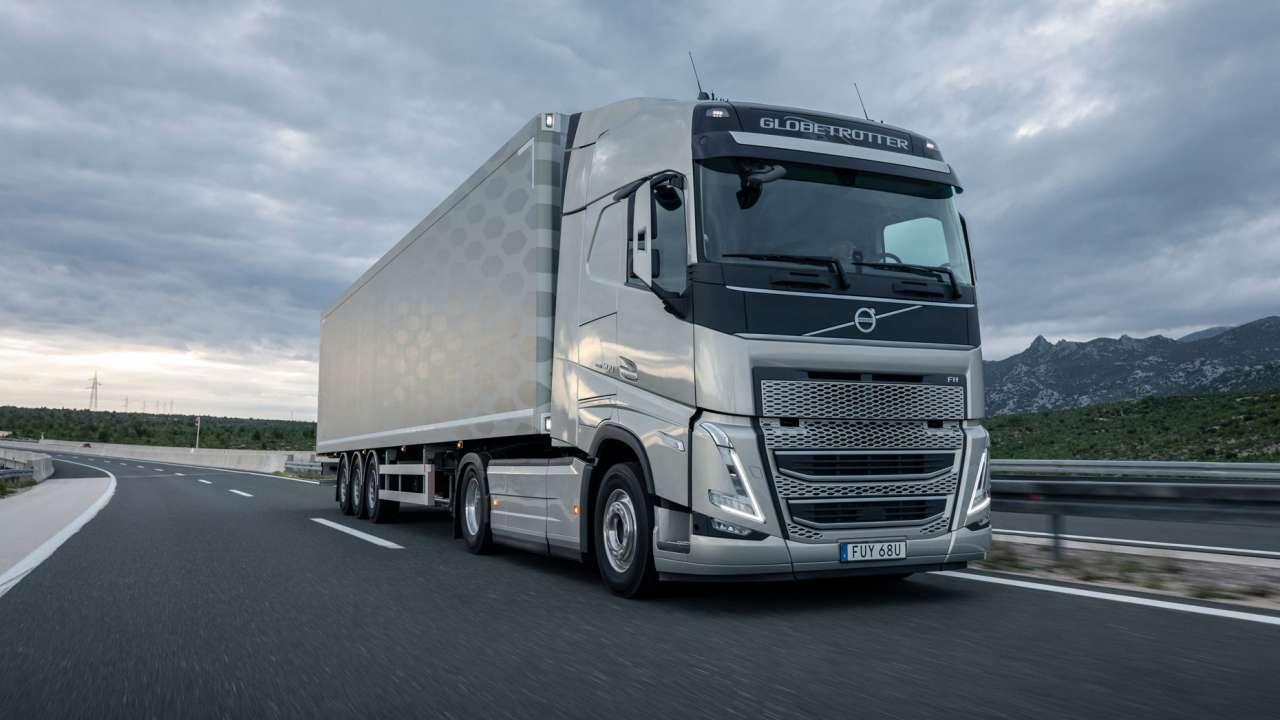Trucks: (317, 99, 989, 594)
